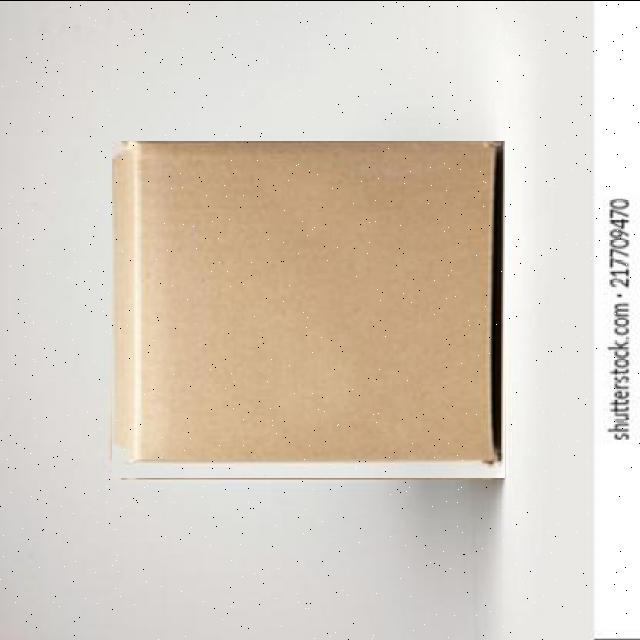normal: (112, 140, 505, 477)
